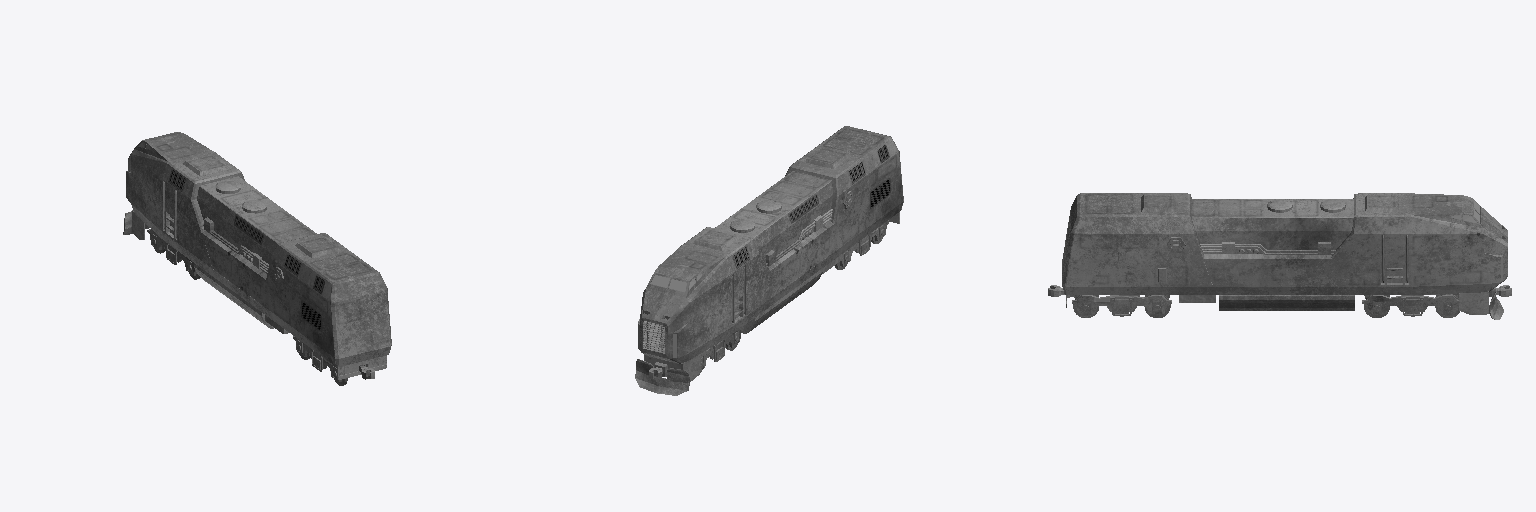
3 views of the same model, side by side, from view 1: azimuth 30°, elevation 25°; view 2: azimuth 150°, elevation 25°; view 3: azimuth 270°, elevation 25° (orthographic).
Visible parts, largest first — view 1: Sci_fi_Train_Cube.000; view 2: Sci_fi_Train_Cube.000; view 3: Sci_fi_Train_Cube.000.
Boxes of the visible parts, <box> form: Sci_fi_Train_Cube.000: <box>123,132,391,385</box>; Sci_fi_Train_Cube.000: <box>635,126,903,395</box>; Sci_fi_Train_Cube.000: <box>1048,193,1511,319</box>.
Size of the model in its own units: 3.22 by 5.75 by 21.94.
Materials: 2 (1 with a texture image).